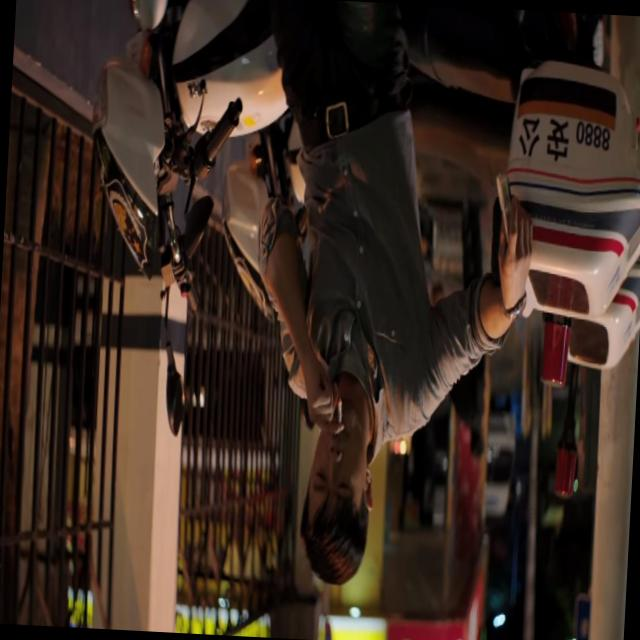smoke: (336, 392, 346, 437)
